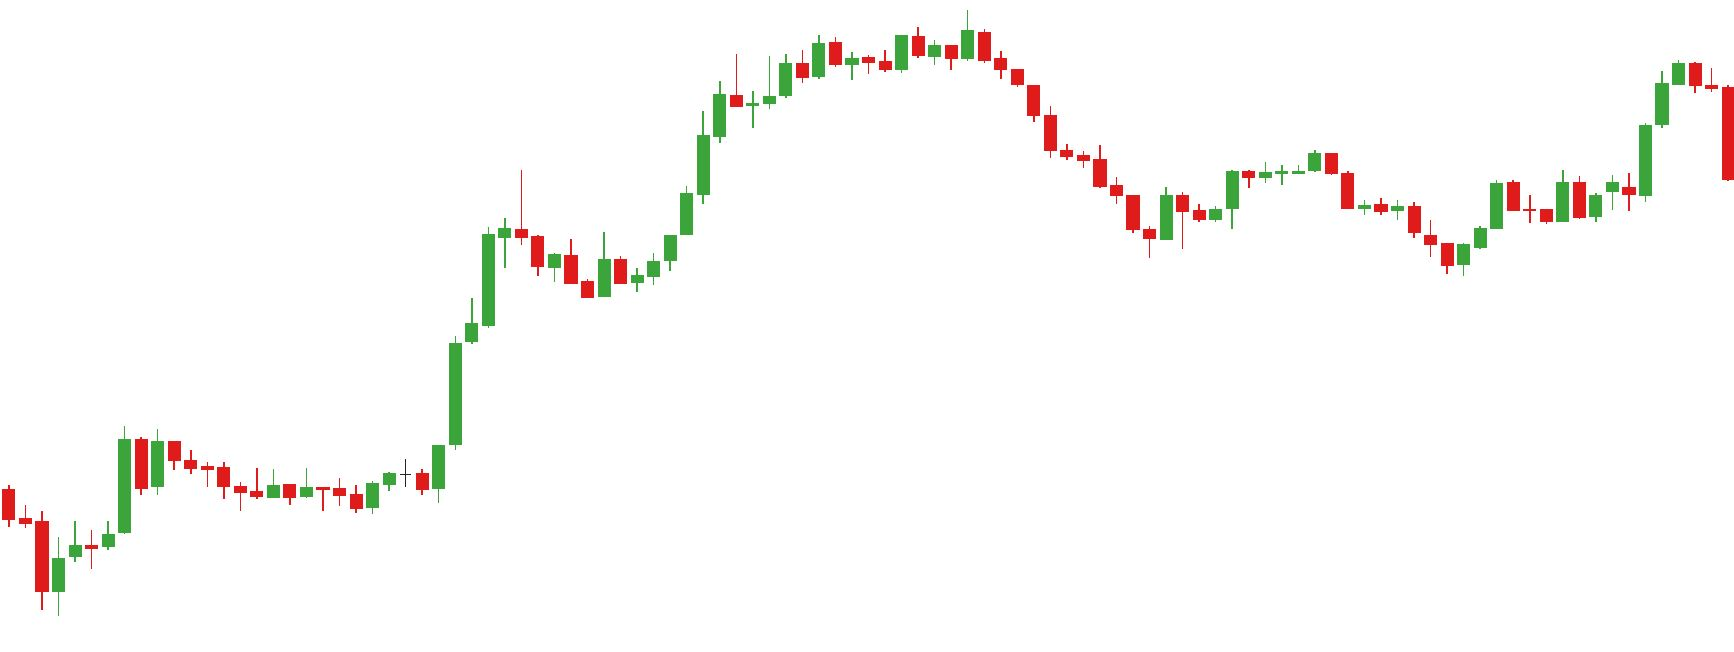sell: (811, 7, 993, 61)
